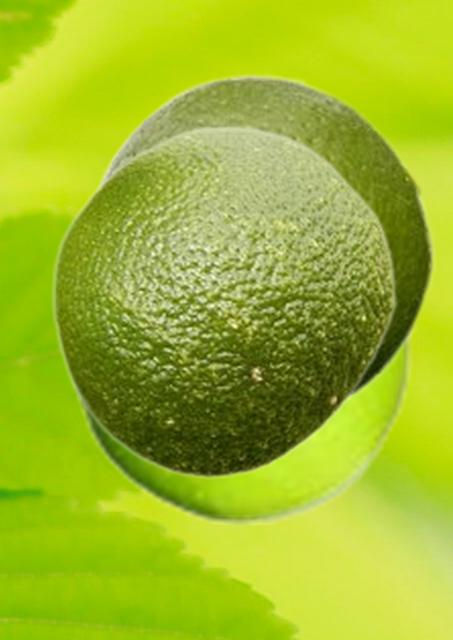calamansi: (50, 124, 396, 480), (90, 70, 435, 405), (68, 338, 414, 523)
